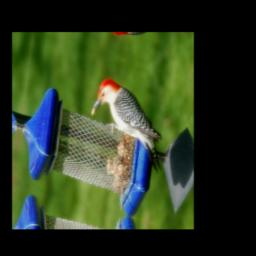Woodpecker: (82, 73, 174, 179)
